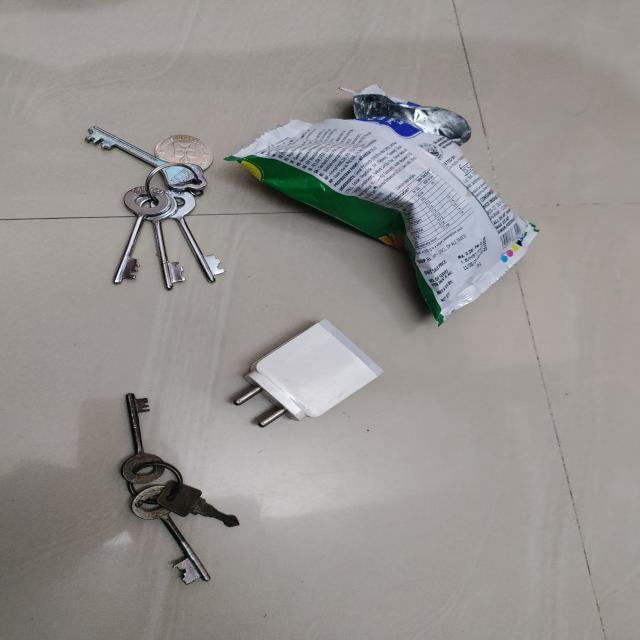dry: (228, 81, 544, 326), (86, 120, 234, 292), (120, 390, 245, 586), (231, 322, 387, 430)
